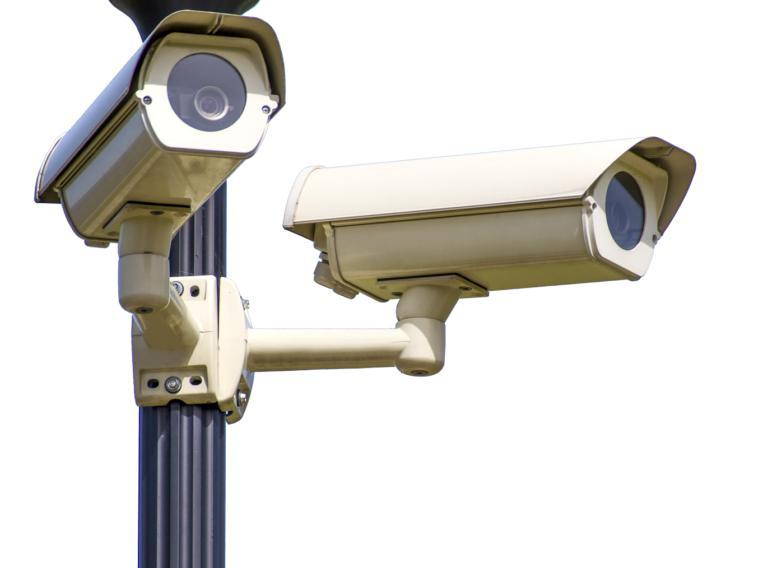CCTV: (35, 10, 283, 318), (284, 137, 696, 301)
